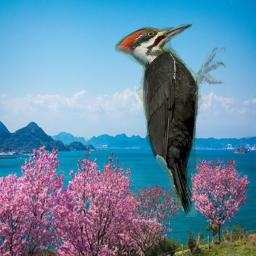Woodpecker: (115, 23, 226, 217)
